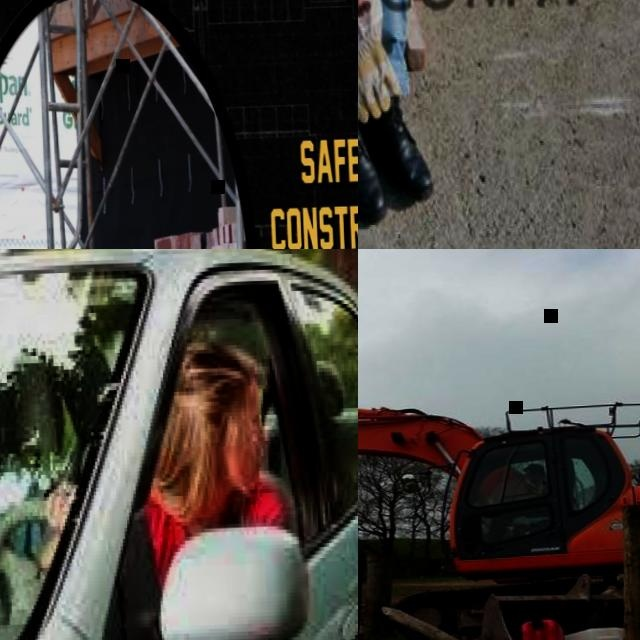NO-Hardhat: (175, 340, 270, 416), (523, 461, 543, 471)
NO-Mask: (218, 444, 261, 493)
Person: (36, 341, 291, 584), (358, 0, 432, 229), (0, 340, 43, 619), (480, 461, 550, 543)
machinery: (358, 334, 640, 640)
vehicle: (0, 249, 358, 640)
